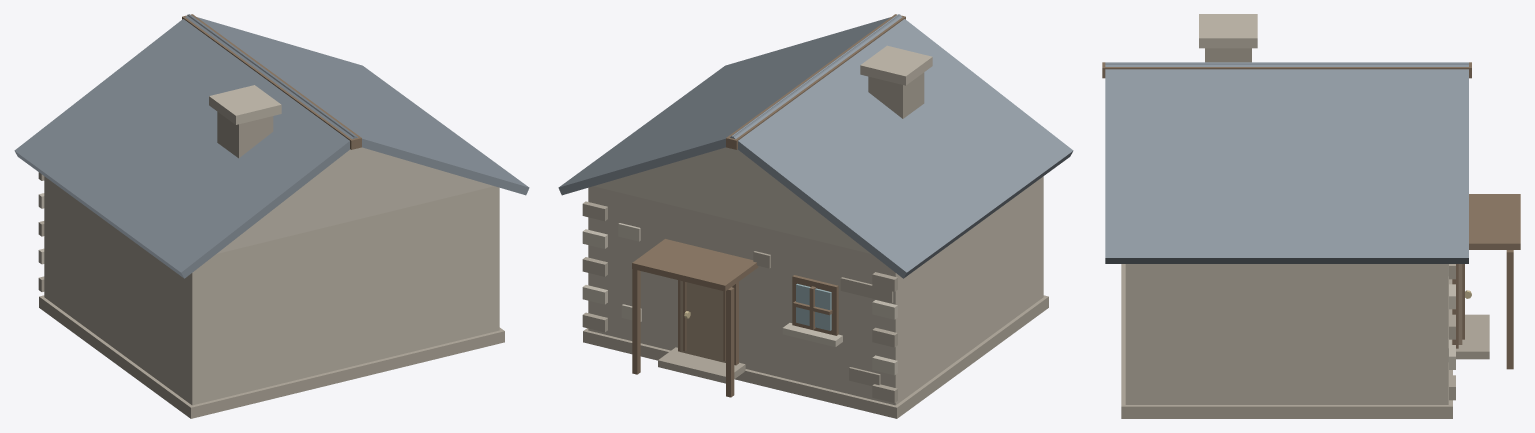
3 views of the same model, side by side, from view 1: azimuth 30°, elevation 25°; view 2: azimuth 150°, elevation 25°; view 3: azimuth 270°, elevation 25° (orthographic). The views are drawn at different scales.
Visible parts, largest first — view 1: StaticGeometry; view 2: StaticGeometry; view 3: StaticGeometry.
Boxes of the visible parts, x1,y1,x2,y2 form: StaticGeometry: (14,14,529,418); StaticGeometry: (558,14,1073,418); StaticGeometry: (1102,14,1520,418).
Size of the model in its own units: 7.48 by 5.28 by 7.13.
